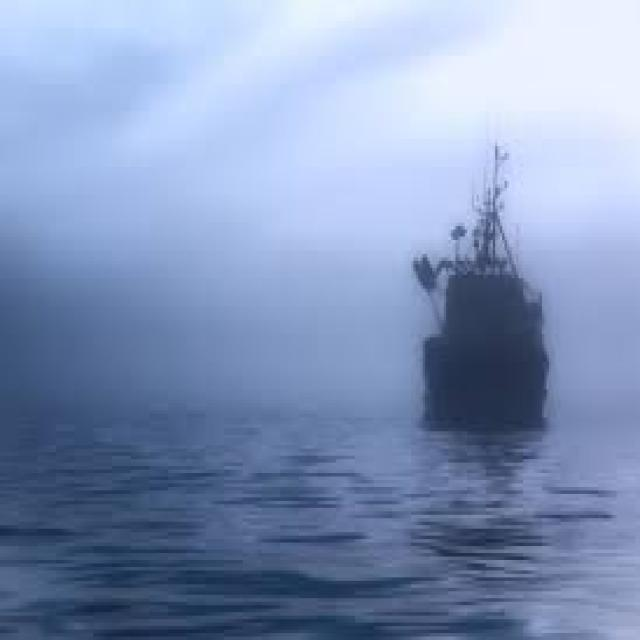fishing boat: (408, 141, 552, 426)
